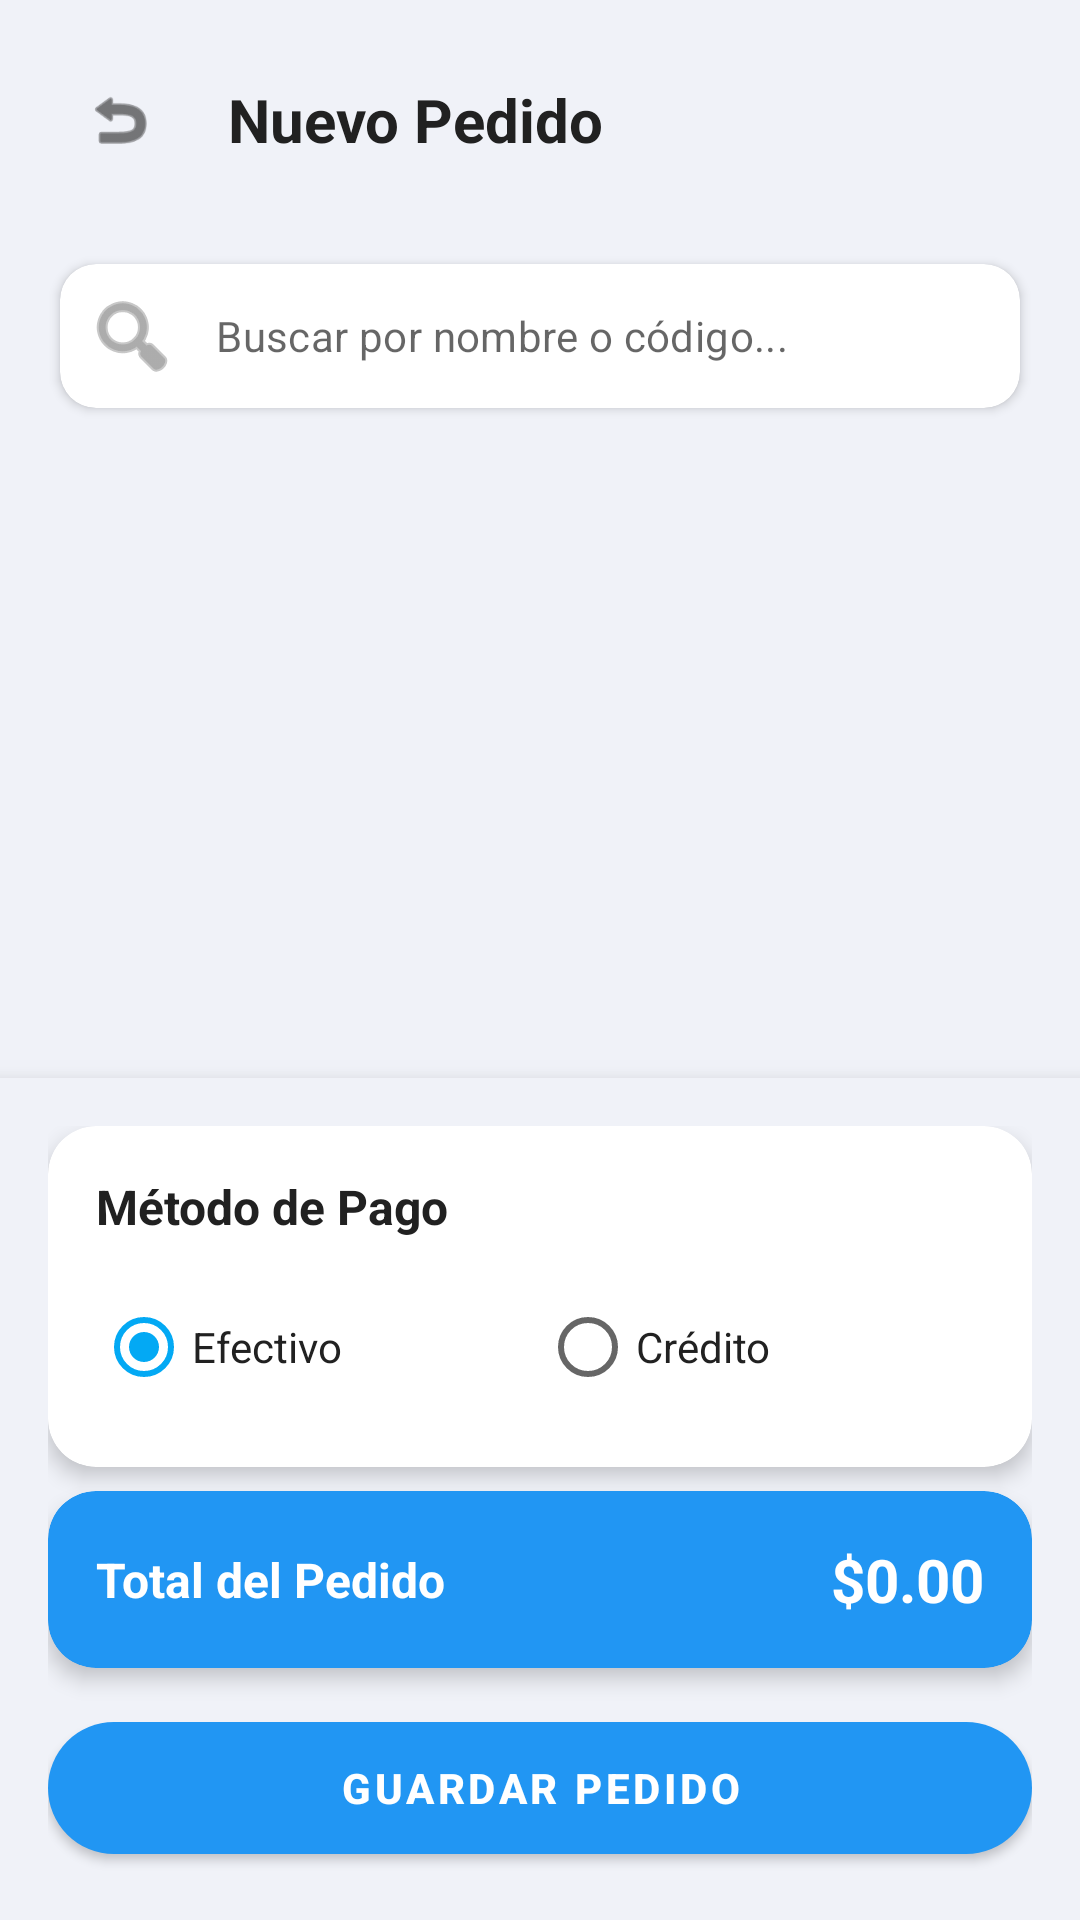

Where icons sit on this 1080×1920 app screen, as (x1, y1, x2, y2):
revert: (95, 97, 147, 144)
